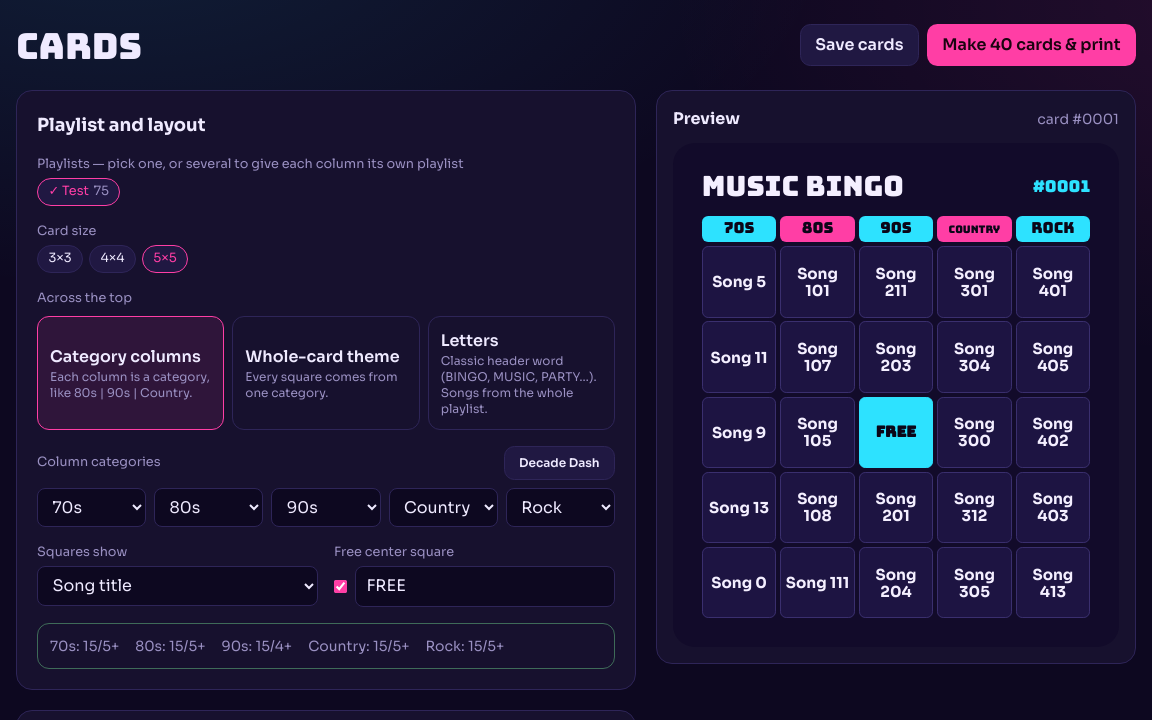
it: Save cards stores the set without going to print
The width and height of the screenshot is (1152, 720).
Step 1. Click the button "Save cards" → click(859, 45), box [800,24,919,66]
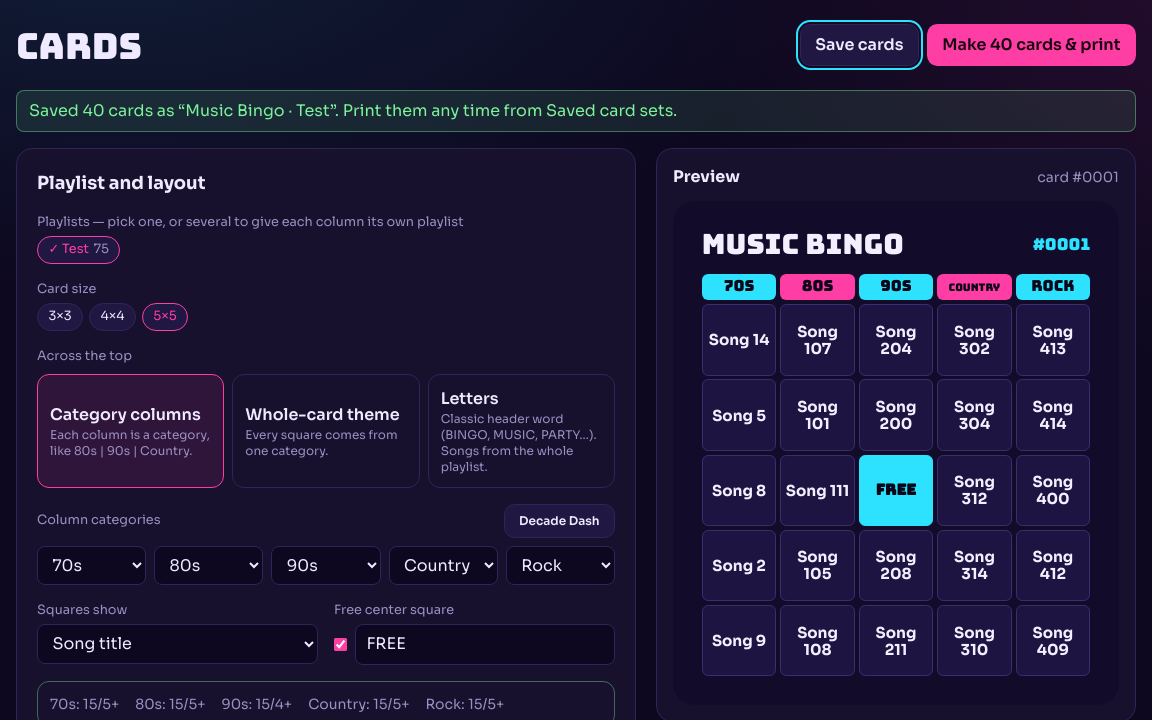
Check: the text "Saved 40 cards" is shown, box [29,100,677,121]
